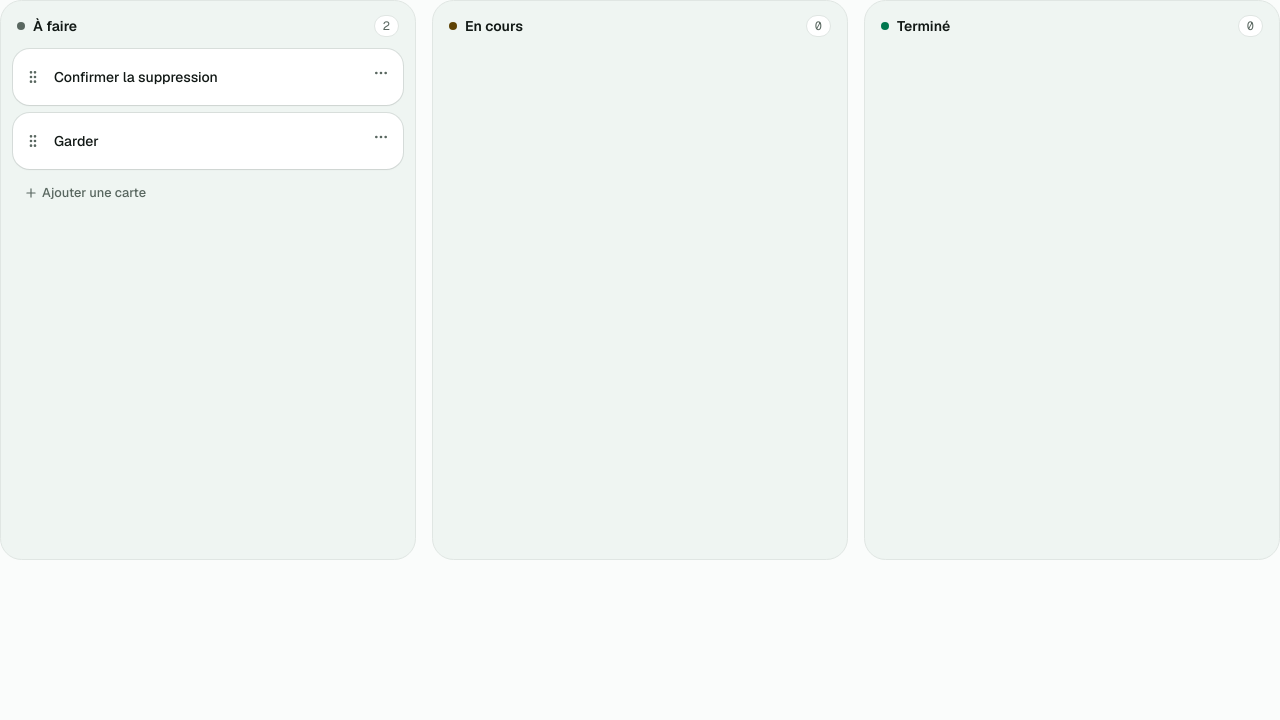
Test: BoardView — supprimer une carte définitivement › « Supprimer » demande une confirmation qui annonce une suppression définitive et propose d'archiver
Click the button named "Actions pour « Confirmer la suppression »". click: [381, 73]
box: top-left (367, 59), bottom-right (395, 87)
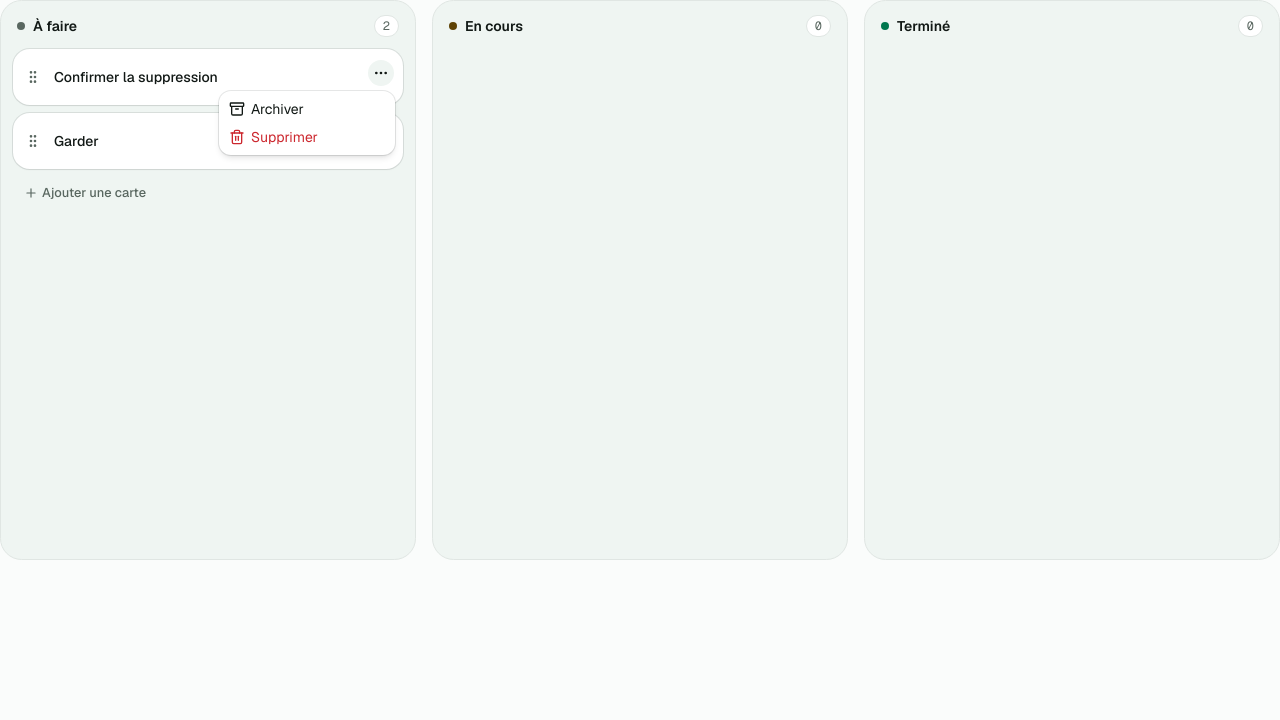
Click the menu item "Supprimer". click: [273, 137]
box: top-left (229, 128), bottom-right (318, 146)
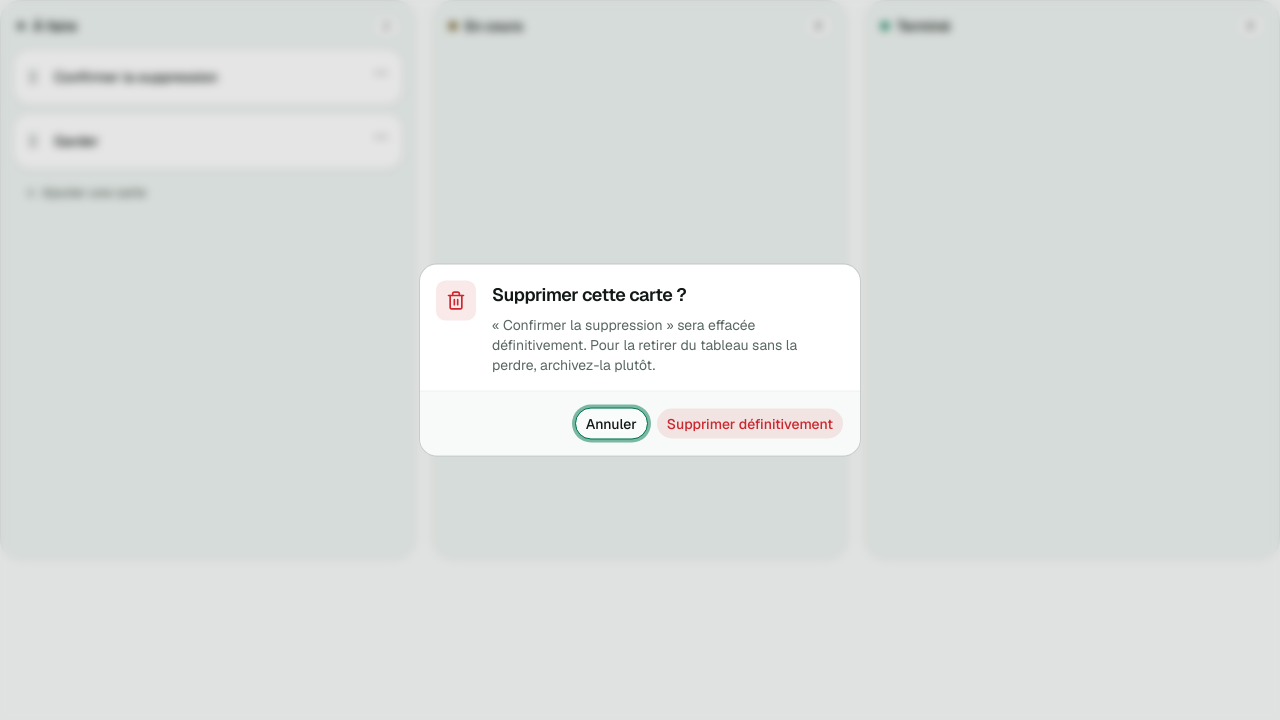
Check: the text "« Confirmer la suppression » sera effacée définitivement. Pour la retirer du tableau sans la perdre, archivez-la plutôt." is shown, box top-left (492, 314), bottom-right (844, 374)
Check: the button "Annuler" is shown, box top-left (575, 408), bottom-right (648, 440)
Check: the button "Supprimer définitivement" is shown, box top-left (656, 408), bottom-right (844, 440)
